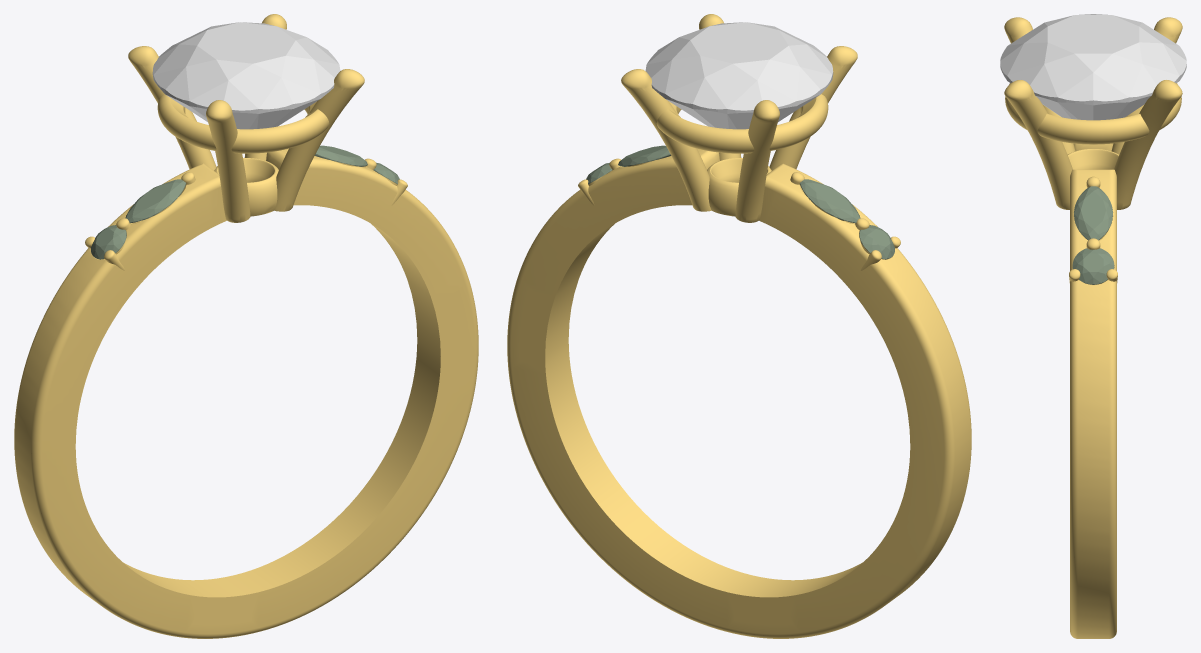
The model's file is JoeSYGdiaV1.glb.
The picture shows the model from 3 angles, left to right: view 1: azimuth 30°, elevation 25°; view 2: azimuth 150°, elevation 25°; view 3: azimuth 270°, elevation 25°; orthographic projection.
Visible parts, largest first — view 1: Joe YG for 3d model, Joe dia for 3d model, Joe side teals for 3d model; view 2: Joe YG for 3d model, Joe dia for 3d model, Joe side teals for 3d model; view 3: Joe YG for 3d model, Joe dia for 3d model, Joe side teals for 3d model.
Boxes of the visible parts, bbox=[...] form: Joe YG for 3d model: bbox=[14, 14, 478, 638]; Joe dia for 3d model: bbox=[152, 22, 340, 129]; Joe side teals for 3d model: bbox=[91, 145, 399, 259]; Joe YG for 3d model: bbox=[507, 14, 971, 638]; Joe dia for 3d model: bbox=[645, 22, 833, 129]; Joe side teals for 3d model: bbox=[586, 145, 894, 259]; Joe YG for 3d model: bbox=[1004, 17, 1182, 638]; Joe dia for 3d model: bbox=[1000, 14, 1186, 120]; Joe side teals for 3d model: bbox=[1072, 186, 1114, 284].
Bounding box in the file's own units: 19.7 × 24.59 × 7.16.
